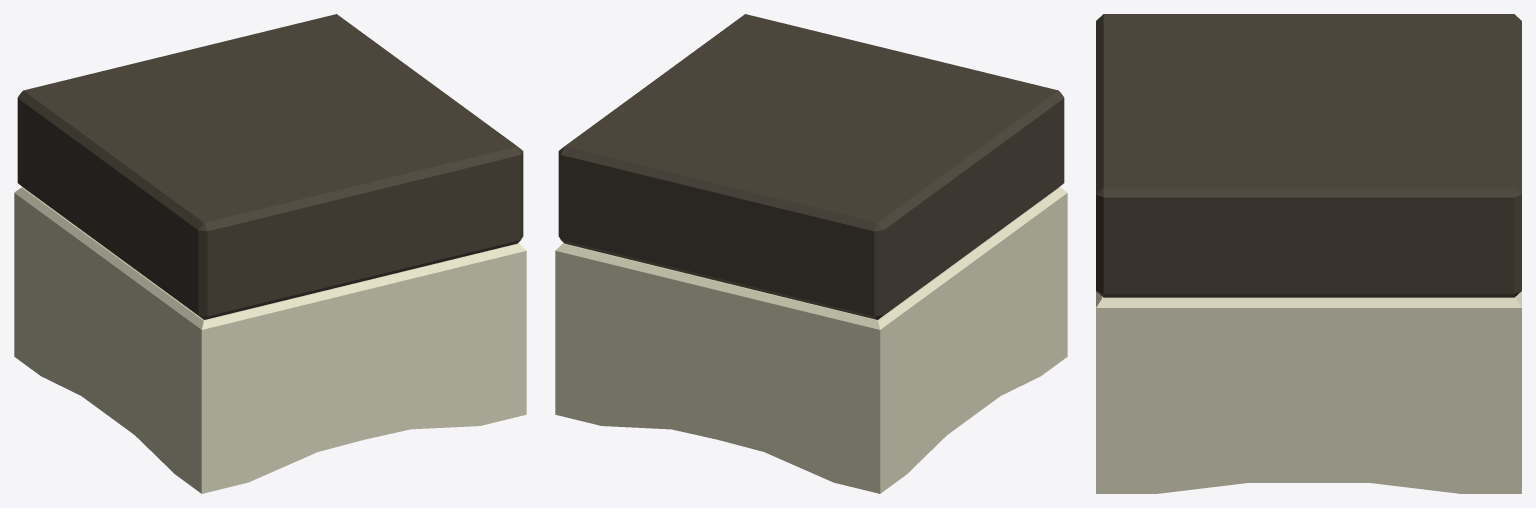
File: CKWax.dae
3 views of the same model, side by side, from view 1: azimuth 30°, elevation 25°; view 2: azimuth 150°, elevation 25°; view 3: azimuth 270°, elevation 25° (orthographic). The views are drawn at different scales.
Parts seen in each view (by area): view 1: Cube_009; view 2: Cube_009; view 3: Cube_009.
Boxes of the visible parts, left/top/right/bottom form: Cube_009: left=14, top=14, right=526, bottom=493; Cube_009: left=555, top=14, right=1067, bottom=493; Cube_009: left=1096, top=14, right=1521, bottom=493.
Size of the model in its own units: 1.4 by 1.4 by 1.1.
2 materials, 2 textured.
